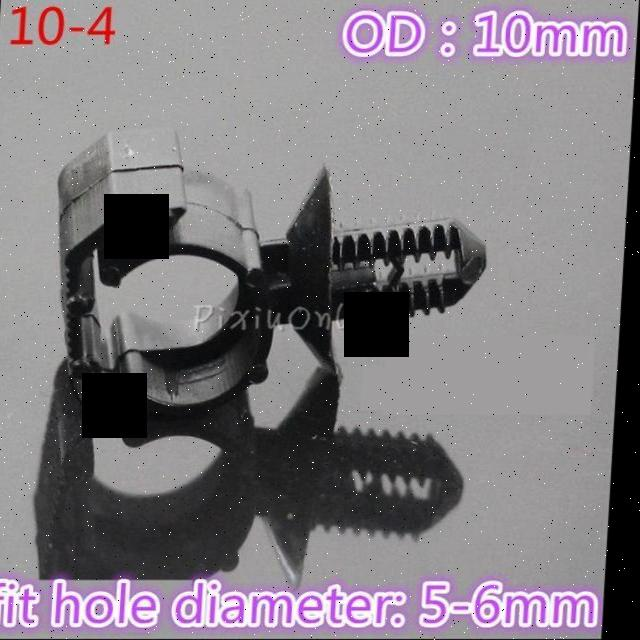clip: (45, 103, 413, 424), (380, 218, 493, 316)
